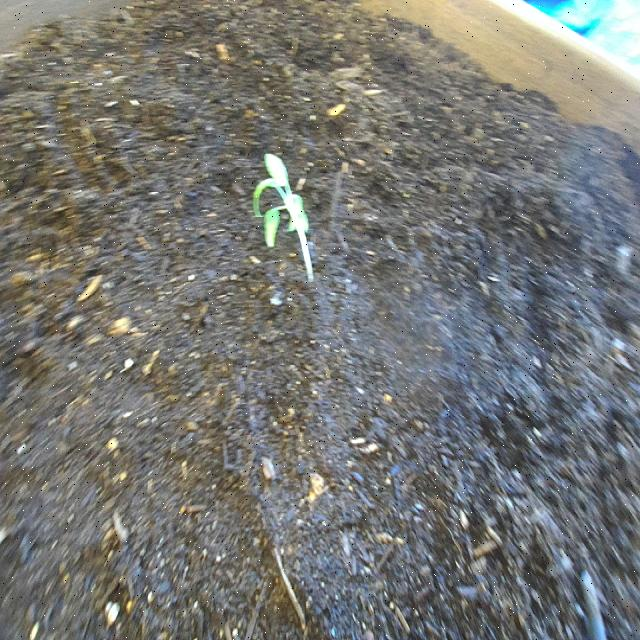Healthy: (241, 137, 328, 304)
